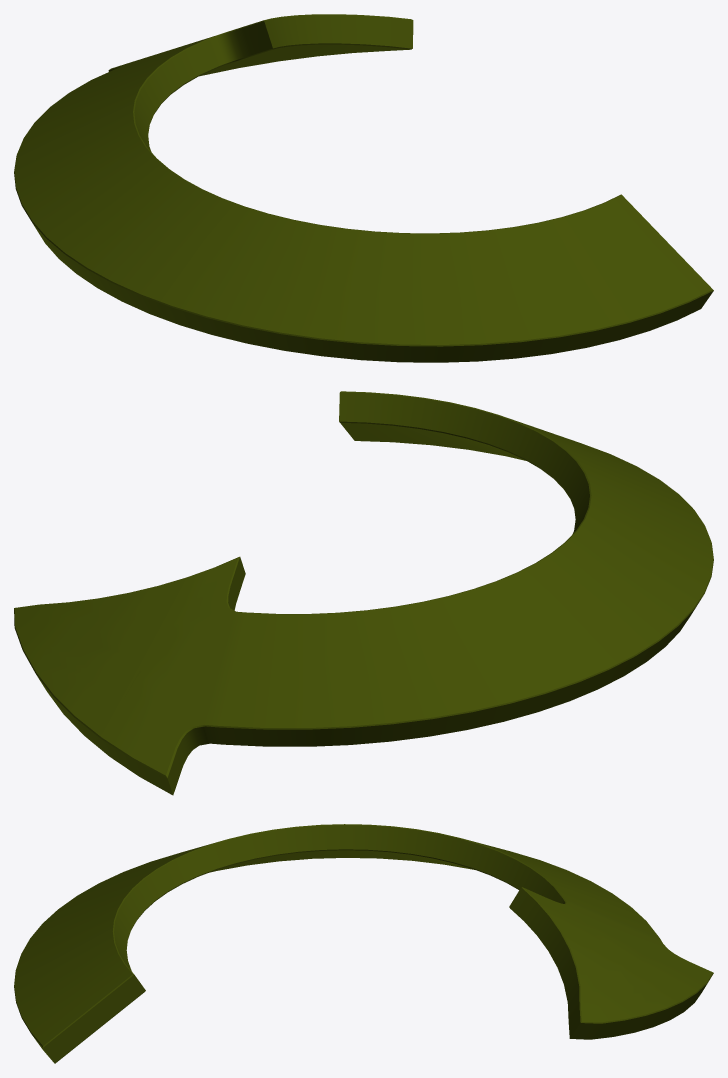
Rendered from rotCW.obj.
3 views of the same model, one above another, from view 1: azimuth 30°, elevation 25°; view 2: azimuth 150°, elevation 25°; view 3: azimuth 270°, elevation 25° (orthographic). The views are drawn at different scales.
Visible parts, largest first — view 1: Arrow_02.001; view 2: Arrow_02.001; view 3: Arrow_02.001.
Part boxes in pixels (x1,y1,x2,y2): Arrow_02.001: (14,14,713,362); Arrow_02.001: (14,391,713,795); Arrow_02.001: (14,824,713,1063).
Bounding box in the file's own units: 20.02 × 5.66 × 29.25.
